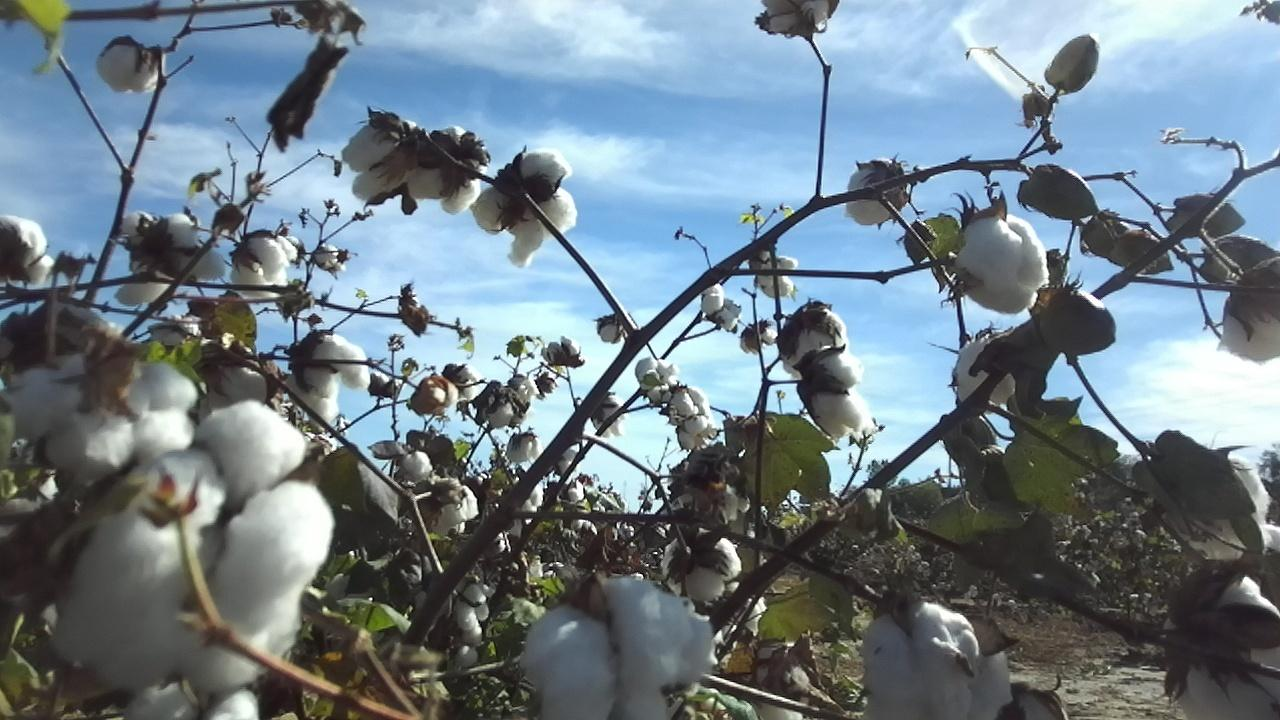cotton_ready: (57, 402, 335, 687), (519, 570, 715, 720), (10, 353, 200, 474), (866, 599, 1012, 720), (1184, 581, 1280, 720), (471, 150, 576, 269), (114, 212, 228, 306), (951, 214, 1049, 313), (1188, 455, 1273, 562), (290, 330, 370, 425), (407, 126, 485, 215), (344, 113, 419, 203), (1217, 264, 1280, 366), (780, 304, 851, 382), (117, 684, 263, 720), (804, 351, 863, 439), (230, 230, 299, 300), (661, 539, 741, 597), (956, 332, 1020, 403), (843, 157, 908, 226), (205, 350, 280, 409), (0, 214, 56, 289), (97, 38, 168, 95), (1001, 683, 1070, 720), (758, 0, 837, 32)
